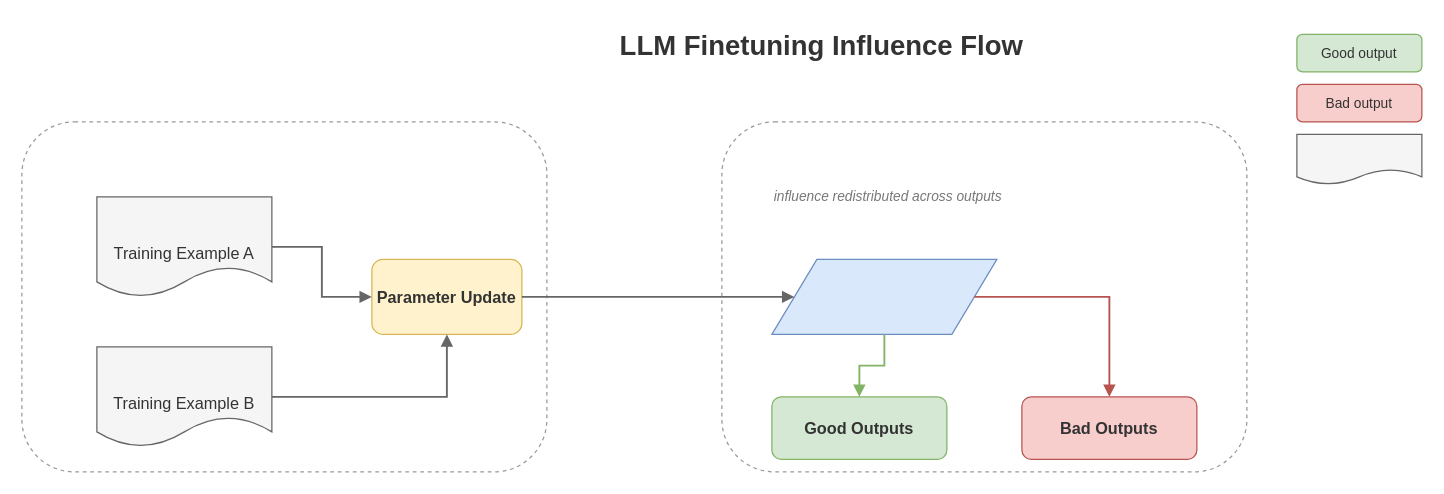
Image size: 1444x494. Some labels were removed from this diagram. Here are the shapes that lost their labels. From the top down, the box of each, then its label:
(1296, 133, 1422, 184): Training example
(21, 121, 547, 472): Learning
(771, 258, 997, 334): Probability Mass Shift
(721, 121, 1247, 472): Effect
